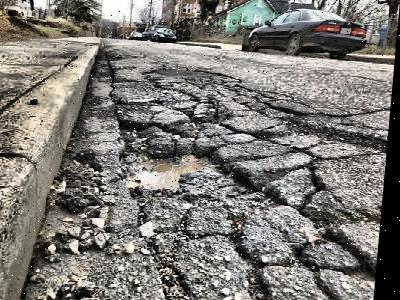pothole: (112, 117, 297, 213)
